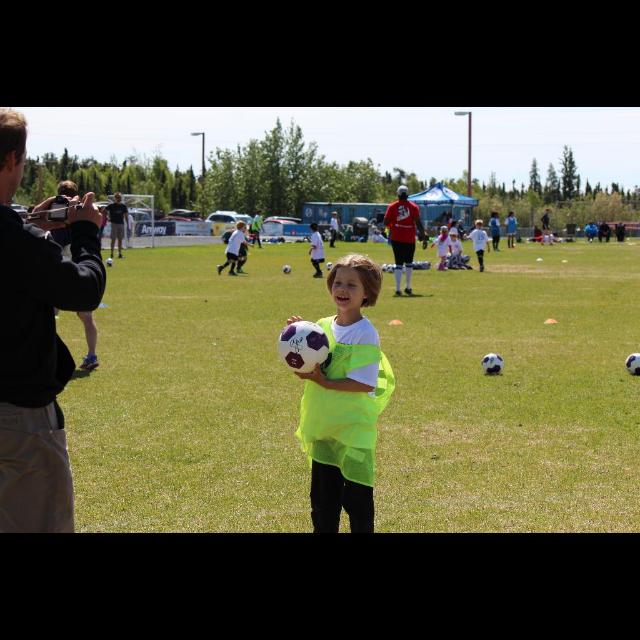Football: (278, 321, 330, 372), (380, 262, 430, 274), (480, 353, 502, 375), (624, 351, 638, 373), (323, 260, 333, 272), (103, 256, 113, 264), (282, 264, 292, 272)
